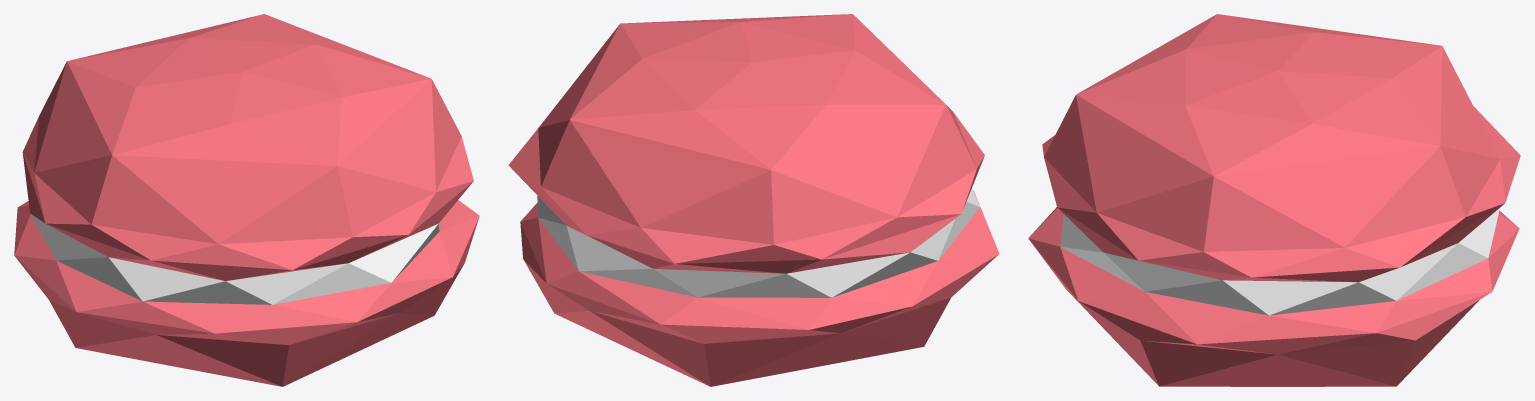
The model's file is macaron_pink.fbx.
The picture shows the model from 3 angles, left to right: view 1: azimuth 30°, elevation 25°; view 2: azimuth 150°, elevation 25°; view 3: azimuth 270°, elevation 25°; orthographic projection. The views are drawn at different scales.
Visible parts, largest first — view 1: macaronPink; view 2: macaronPink; view 3: macaronPink.
Part boxes in pixels (x1=…): macaronPink: x1=14, y1=14, x2=479, y2=386; macaronPink: x1=508, y1=14, x2=999, y2=386; macaronPink: x1=1028, y1=14, x2=1520, y2=386.
Size of the model in its own units: 4.97 by 3.07 by 5.02.
